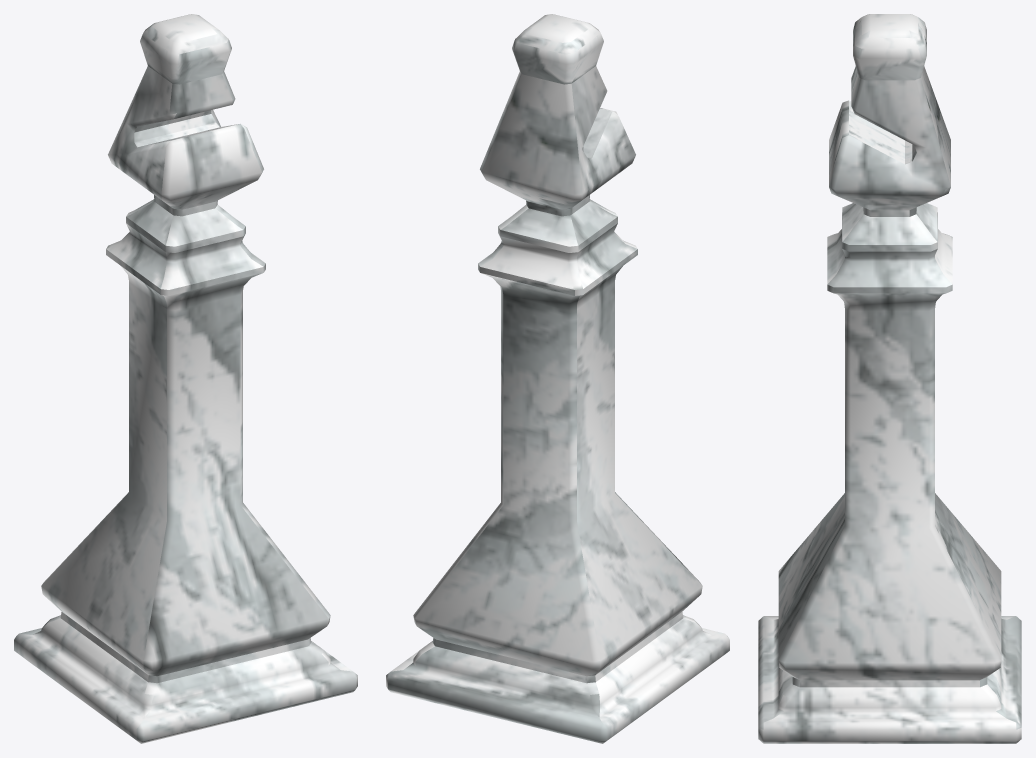
The model's file is chess_rook_01-white.glb.
The picture shows the model from 3 angles, left to right: view 1: azimuth 30°, elevation 25°; view 2: azimuth 150°, elevation 25°; view 3: azimuth 270°, elevation 25°; orthographic projection. The views are drawn at different scales.
Parts seen in each view (by area): view 1: rook_01; view 2: rook_01; view 3: rook_01.
Part boxes in pixels (x1,y1,x2,y2): rook_01: [14, 14, 357, 743]; rook_01: [386, 14, 729, 743]; rook_01: [758, 14, 1021, 743].
Size of the model in its own units: 0.5712 by 1.6 by 0.5712.
1 material, 1 textured.
